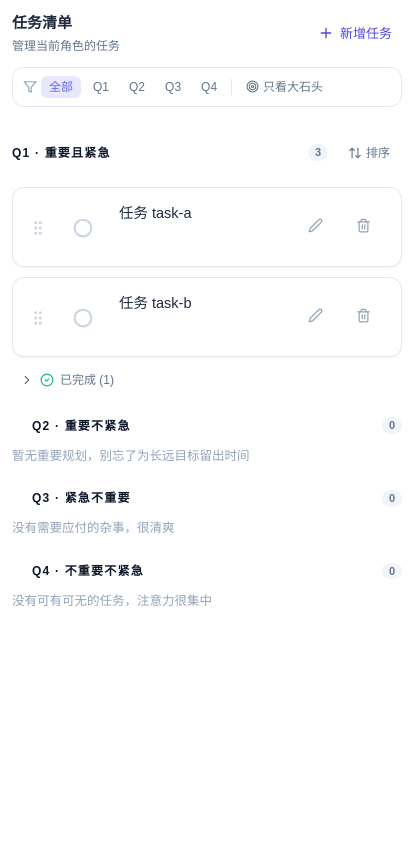
TasksTab 排序模式（Story 16.4） › 排序模式可再点关闭（回到拖拽把手）
The width and height of the screenshot is (414, 856).
What coordinates should you click on to do the following:
click the button with test id "sort-mode-Q1"
I would click on:
 (369, 152)
Its box is [336,130,402,174].
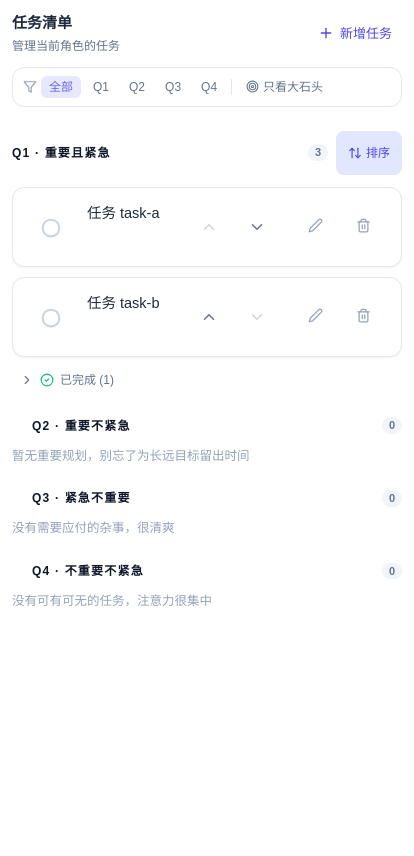
Expected: the button with test id "sort-mode-Q1" is pressed
What coordinates should you click on to do the following:
click the button with test id "sort-mode-Q1"
I would click on:
 (369, 152)
Its box is [336,130,402,174].
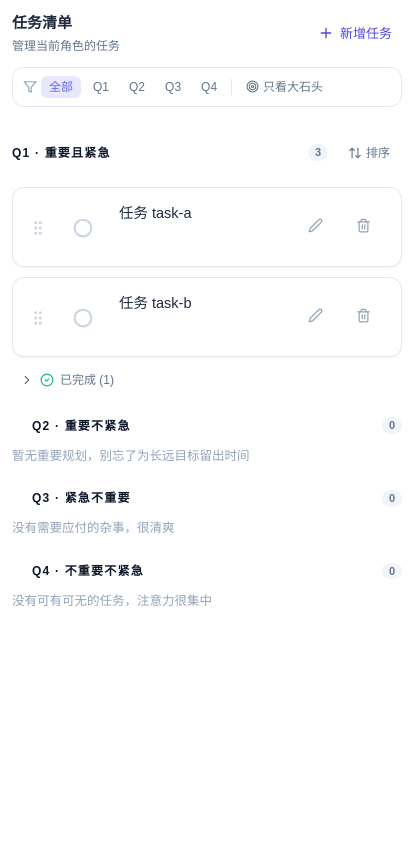
Expected: the button named "拖动排序 任务 task-a" is shown, [29,206,47,250]
